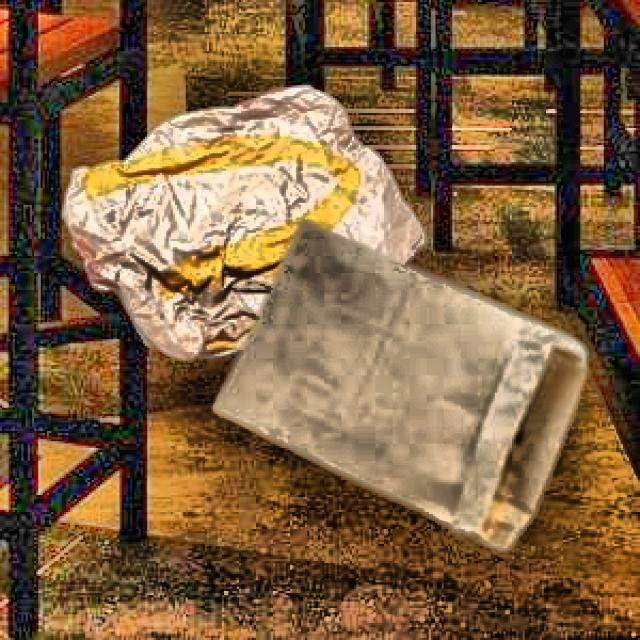Paper-bag: (186, 215, 596, 560), (56, 79, 433, 363)
